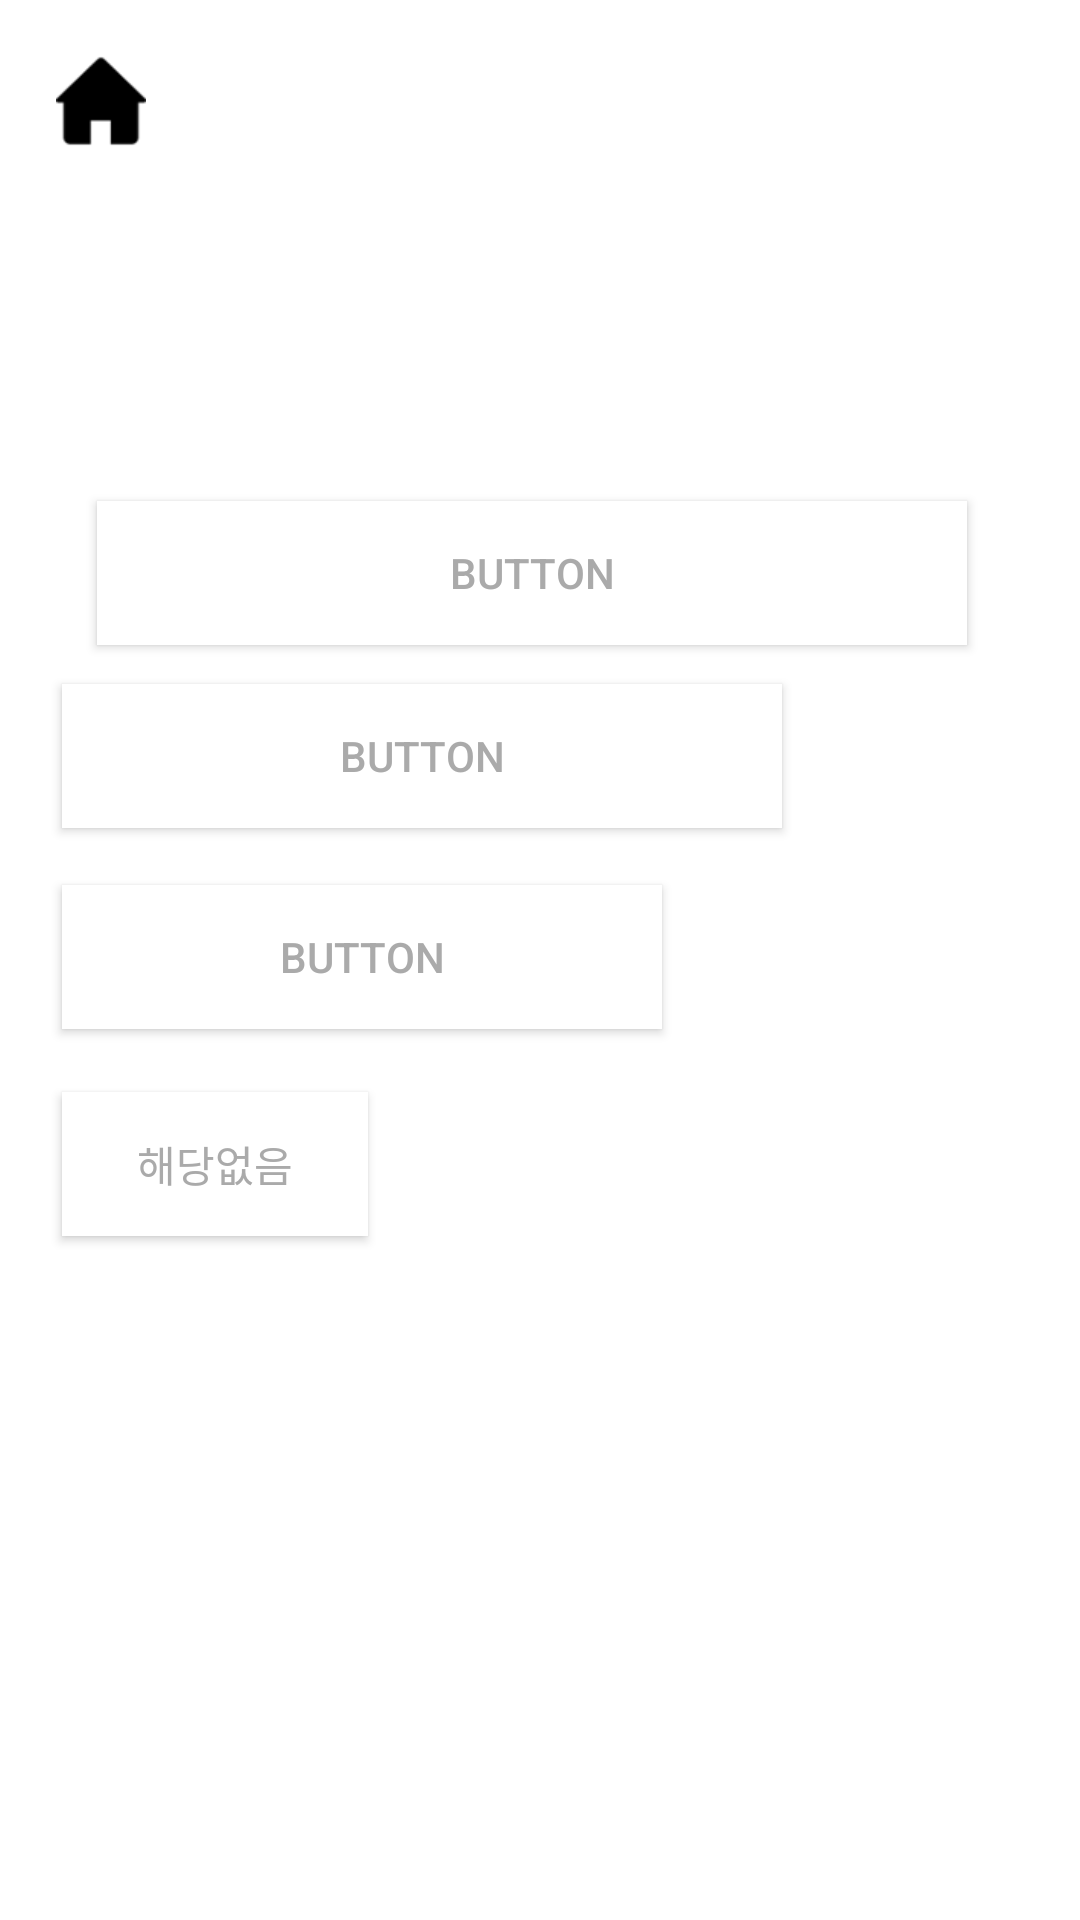

Icon bounding boxes for this 1080 x 1920 phone screenshot, format (x1, y1, x2, y2):
home: (56, 57, 146, 145)
